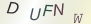D: (6, 2, 20, 15)
F: (42, 4, 54, 17)
N: (52, 2, 65, 17)
U: (28, 7, 42, 21)
W: (72, 13, 84, 24)
